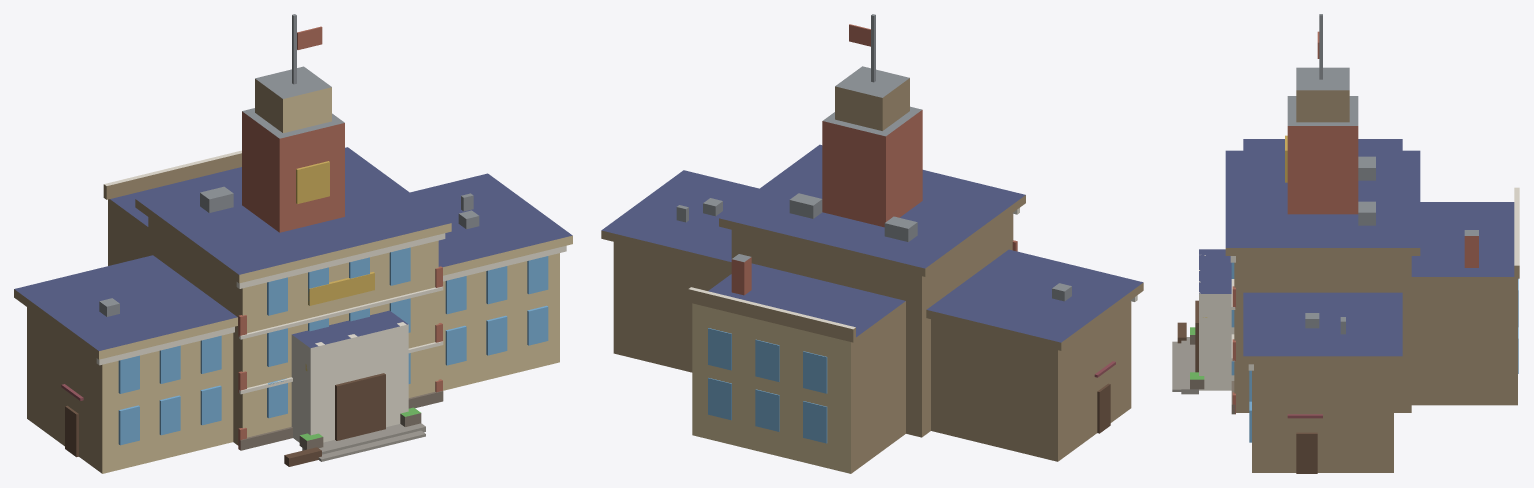
Rendered from Campus.fbx.
The picture shows the model from 3 angles, left to right: view 1: azimuth 30°, elevation 25°; view 2: azimuth 150°, elevation 25°; view 3: azimuth 270°, elevation 25°; orthographic projection. The views are drawn at different scales.
Visible parts, largest first — view 1: Campus; view 2: Campus; view 3: Campus.
Boxes of the visible parts, x1,y1,x2,y2 form: Campus: (14, 14, 572, 473); Campus: (601, 14, 1143, 473); Campus: (1172, 14, 1519, 473).
Bounding box in the file's own units: 2900 × 2200 × 1960.
